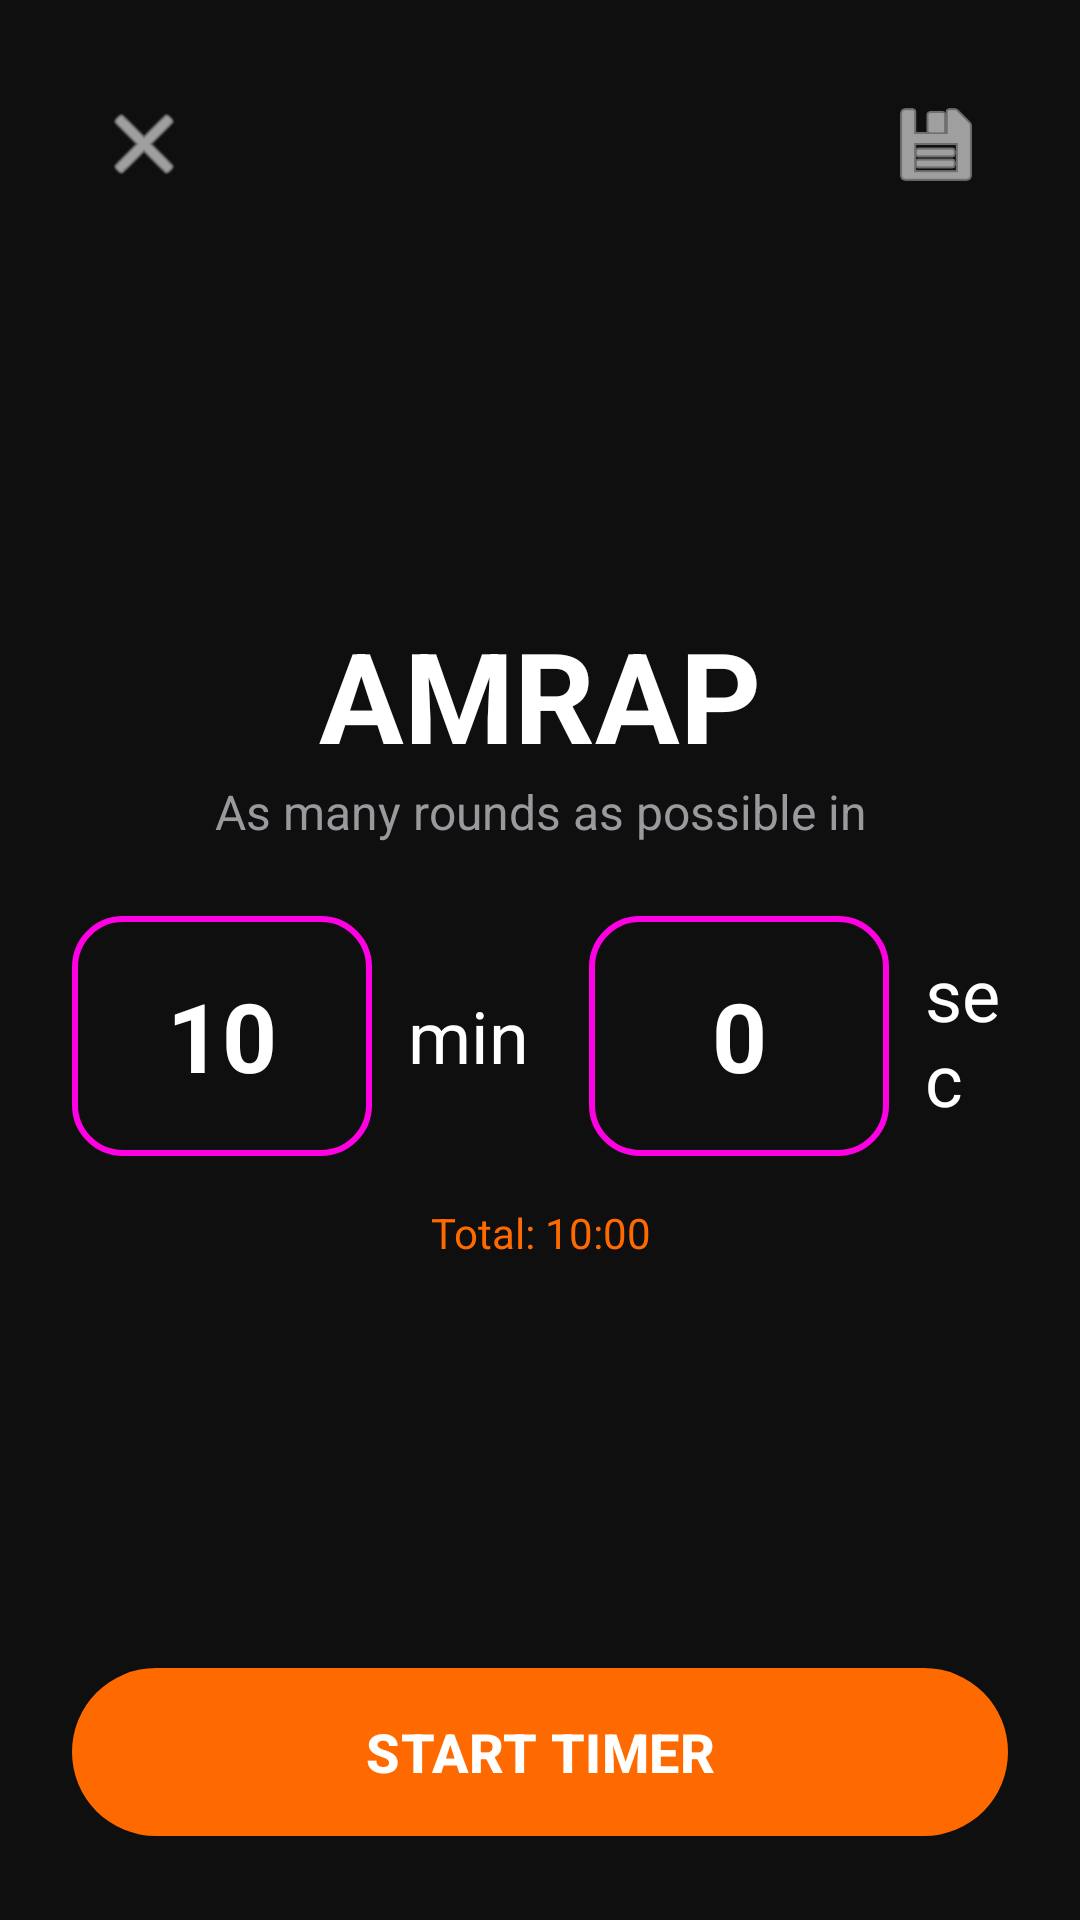

Named icons in this screenshot (1080x1920) and their bounding boxes, (x1, y1, x2, y2):
Save as preset: (900, 108, 972, 181)
